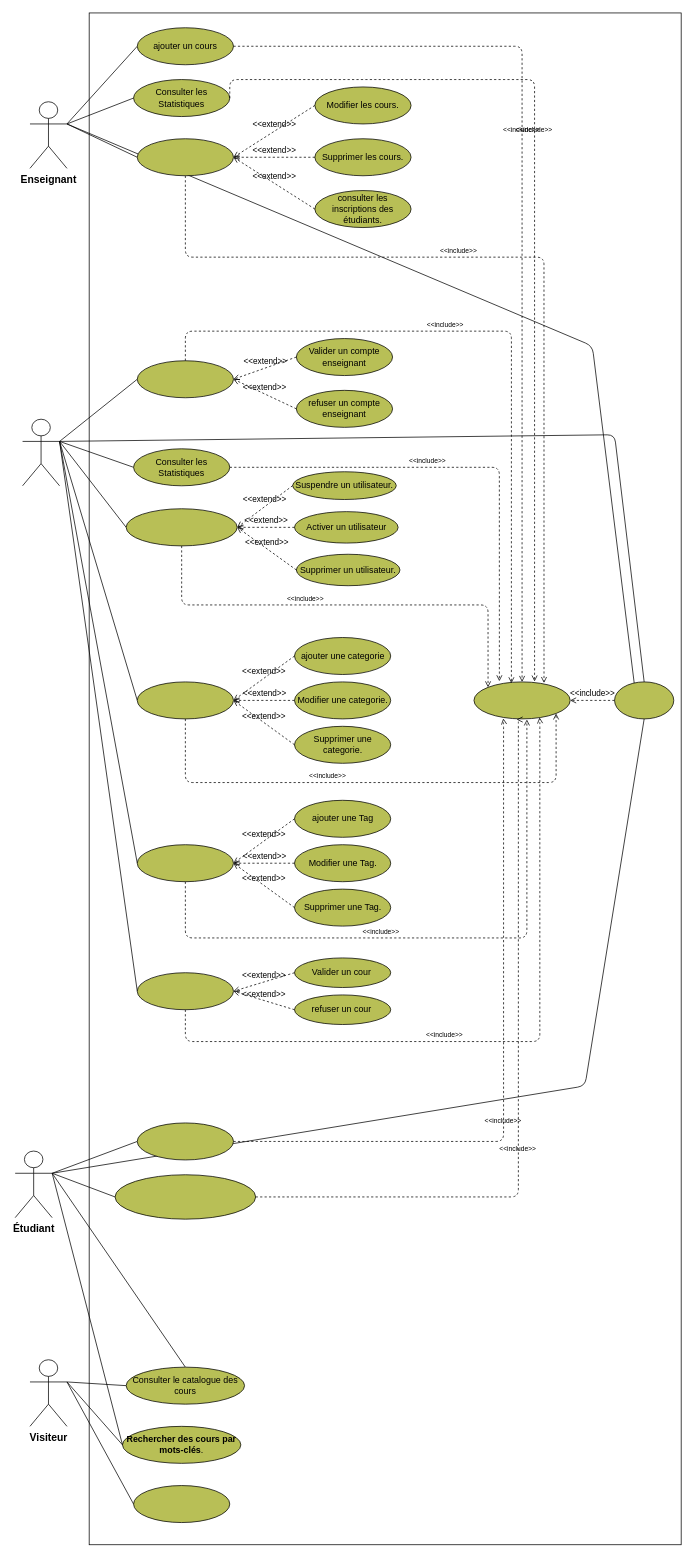
Some shapes in this 694 by 1558 pixel diagram are drawn without their labels. The box of each missing label's shape, as (x1, y1, x2, y2) in pixels:
Accéder à la section "Mes cours" regroupant les cours suivis .: (114, 1174, 256, 1219)
Admin: (22, 418, 60, 486)
Consulter l'archive des cours: (137, 138, 233, 176)
Consulter la liste des categories: (137, 681, 233, 719)
Consulter la liste des cours en attente: (137, 972, 233, 1010)
Consulter la liste des Tags: (137, 844, 233, 882)
Consulter les comptes enseignants en attente: (137, 360, 233, 398)
Consulter les utilisateur inscrit dans le siteweb: (125, 508, 237, 546)
creer un compte: (133, 1485, 230, 1523)
s'authentifier: (473, 681, 570, 719)
S'inscrire à un cours: (137, 1122, 233, 1160)
se déconecter: (614, 681, 674, 719)
